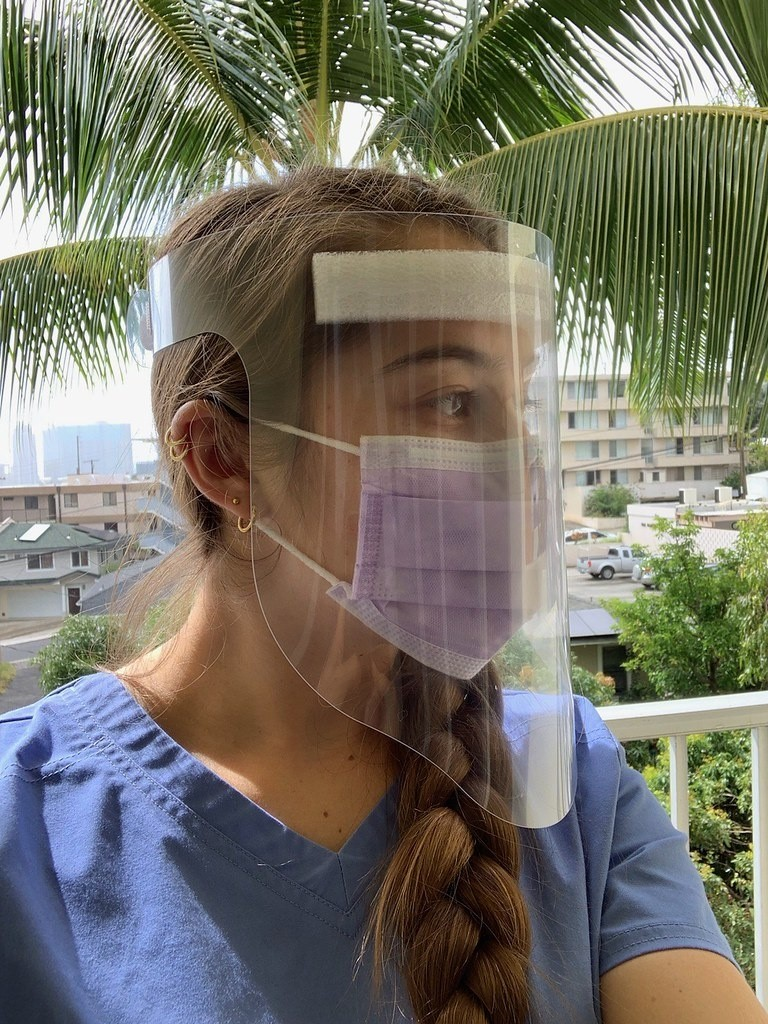face_with_mask: (152, 174, 558, 693)
